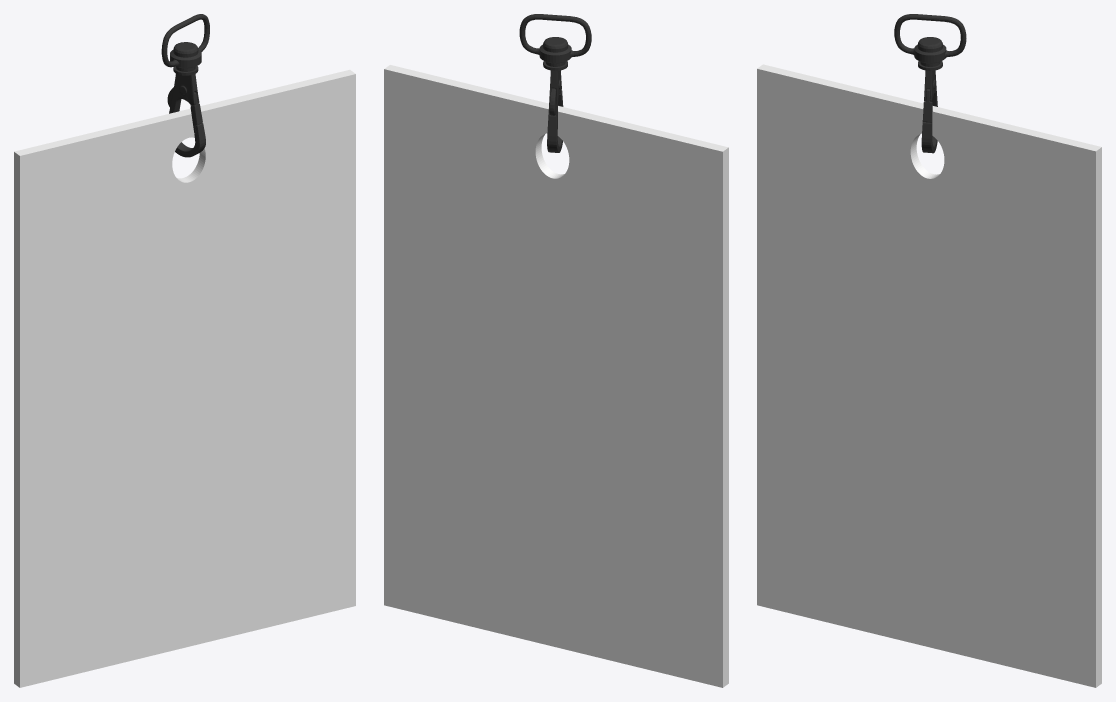
Rendered from card.glb.
The picture shows the model from 3 angles, left to right: view 1: azimuth 30°, elevation 25°; view 2: azimuth 150°, elevation 25°; view 3: azimuth 330°, elevation 25°; orthographic projection.
Visible parts, largest first — view 1: box, clamp, clip; view 2: box, clip, clamp; view 3: box, clip, clamp.
Part boxes in pixels (<box>): box: <box>14,69,355,687</box>; clamp: <box>167,73,205,157</box>; clip: <box>161,14,209,75</box>; box: <box>384,65,728,687</box>; clip: <box>519,14,591,70</box>; clamp: <box>547,70,563,152</box>; box: <box>757,64,1101,687</box>; clip: <box>894,14,966,70</box>; clamp: <box>921,70,937,153</box>.
Size of the model in its own units: 0.7776 by 1.38 by 0.0903.
Materials: 4 (3 with a texture image).
